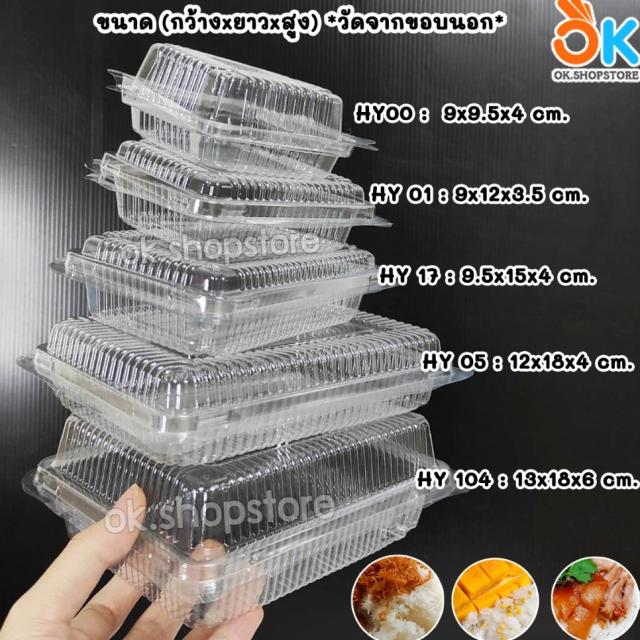plastik: (25, 412, 456, 625), (23, 313, 468, 464), (59, 231, 377, 355), (89, 140, 390, 263), (109, 44, 373, 178)
